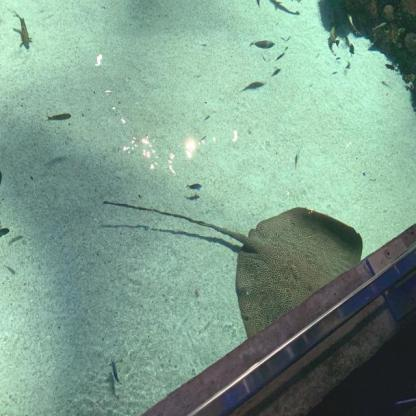fish: (12, 9, 31, 49), (268, 0, 300, 16), (108, 359, 122, 387), (347, 11, 360, 36), (328, 22, 340, 47), (241, 81, 267, 92), (45, 112, 71, 123), (370, 22, 387, 37), (249, 40, 275, 48), (294, 150, 302, 168), (186, 182, 202, 191), (277, 0, 305, 5), (0, 227, 10, 240), (348, 43, 356, 58), (270, 68, 281, 78), (276, 51, 286, 61), (384, 65, 399, 71), (204, 115, 211, 122), (0, 169, 2, 189)
stingray: (234, 206, 363, 342)
